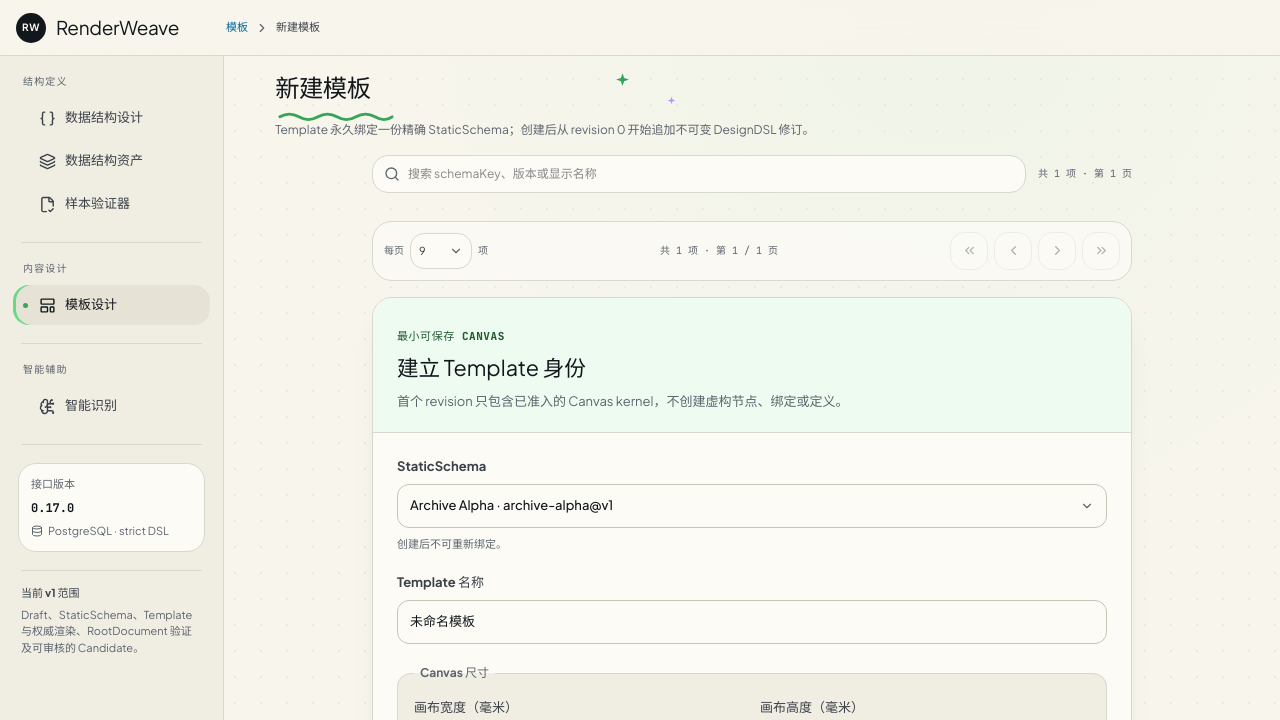
Template final-product page substrate › searches and pages the complete visible StaticSchema catalog
Type " archive " into the search field named "搜索 StaticSchema". click: [711, 174]
box: [408,165,1014,183]
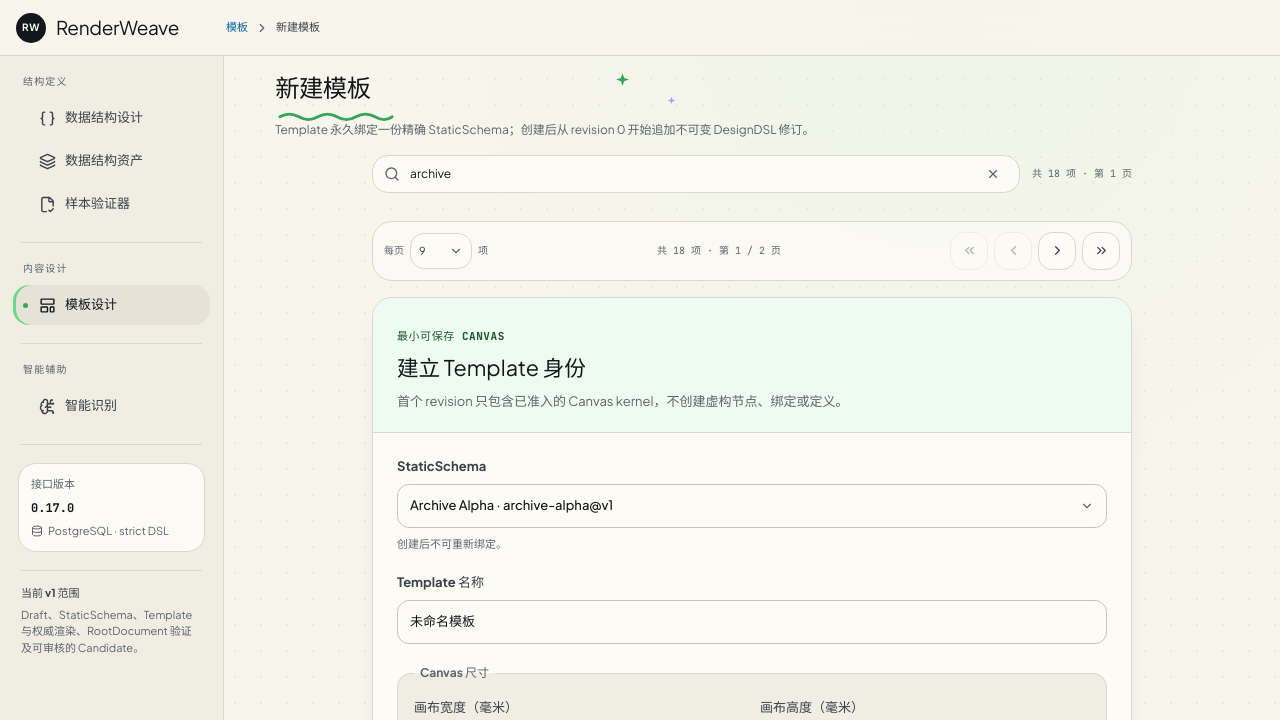
Click the button named "下一页". click: [1057, 251]
box: [1038,232,1076,270]
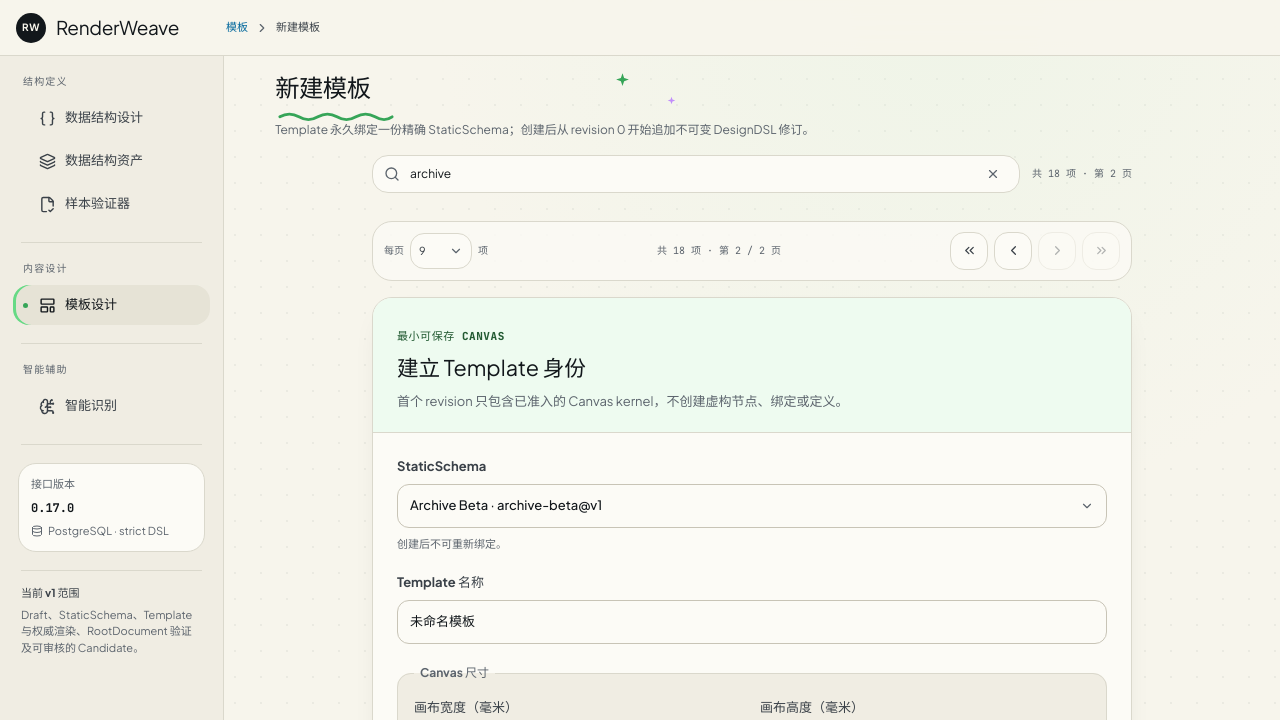
Expected: the text "Archive Beta · archive-beta@v1" is shown, [410,496,602,516]
